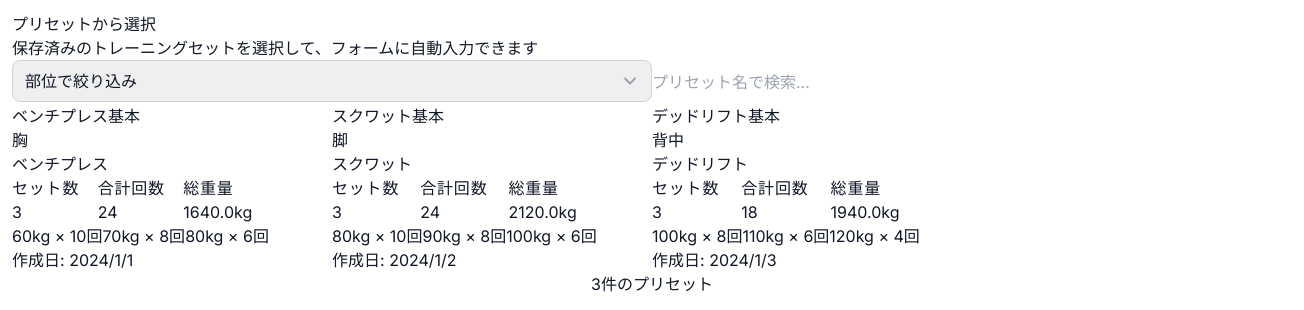
PresetSelector › 検索機能 › プリセット名で検索できる
Type "ベンチ" into the field labelled "プリセット名で検索".
click(972, 82); type("ベンチ")  # box [652, 60, 1292, 104]
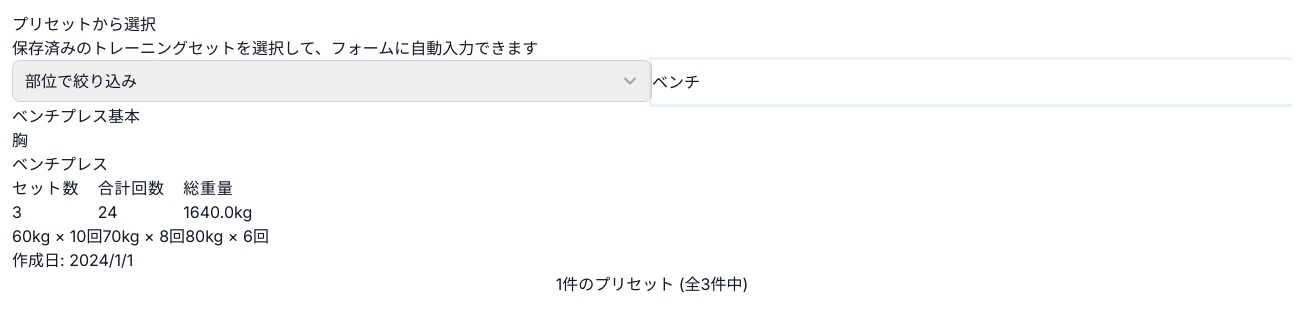
Check: the text "ベンチプレス基本" is shown, box [12, 104, 140, 128]
Check: the list item "スクワット基本" is gone
Check: the list item "デッドリフト基本" is gone
